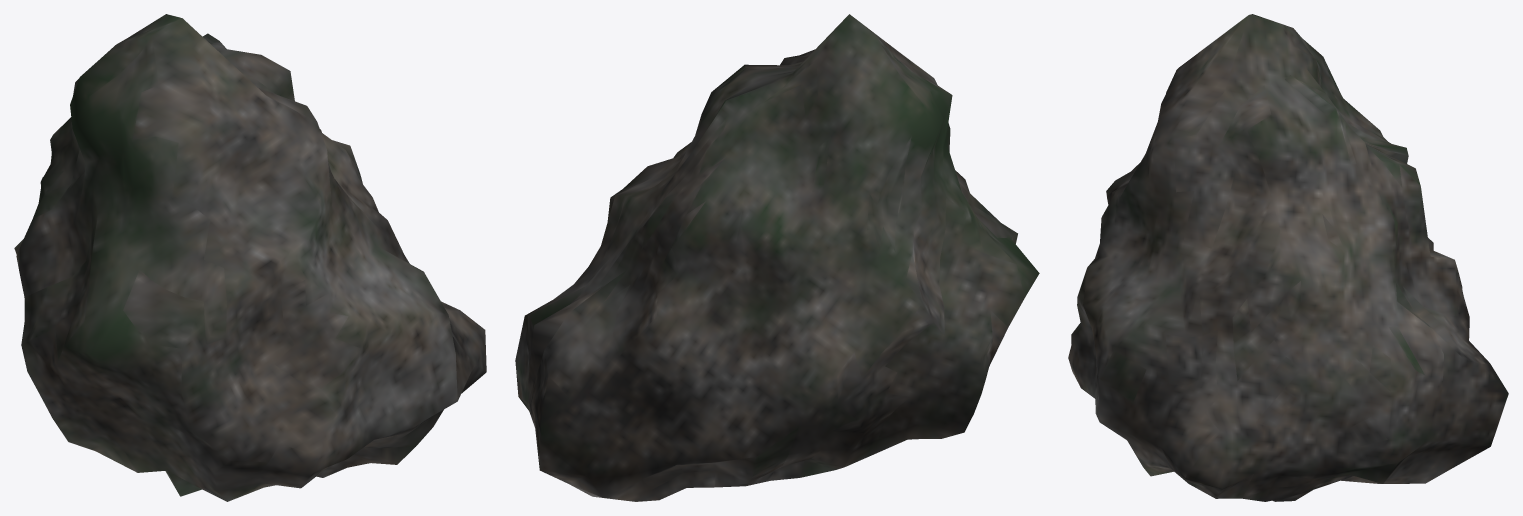
Rendered from Cave Stone 4.fbx.
3 renders of one model, left to right at view 1: azimuth 30°, elevation 25°; view 2: azimuth 150°, elevation 25°; view 3: azimuth 270°, elevation 25°, orthographic. The views are drawn at different scales.
Parts seen in each view (by area): view 1: rock.002; view 2: rock.002; view 3: rock.002.
Boxes of the visible parts, x1,y1,x2,y2 form: rock.002: [14, 14, 486, 501]; rock.002: [515, 14, 1039, 501]; rock.002: [1068, 14, 1508, 501].
Size of the model in its own units: 89.76 by 94.31 by 91.29.
1 material, 1 textured.
